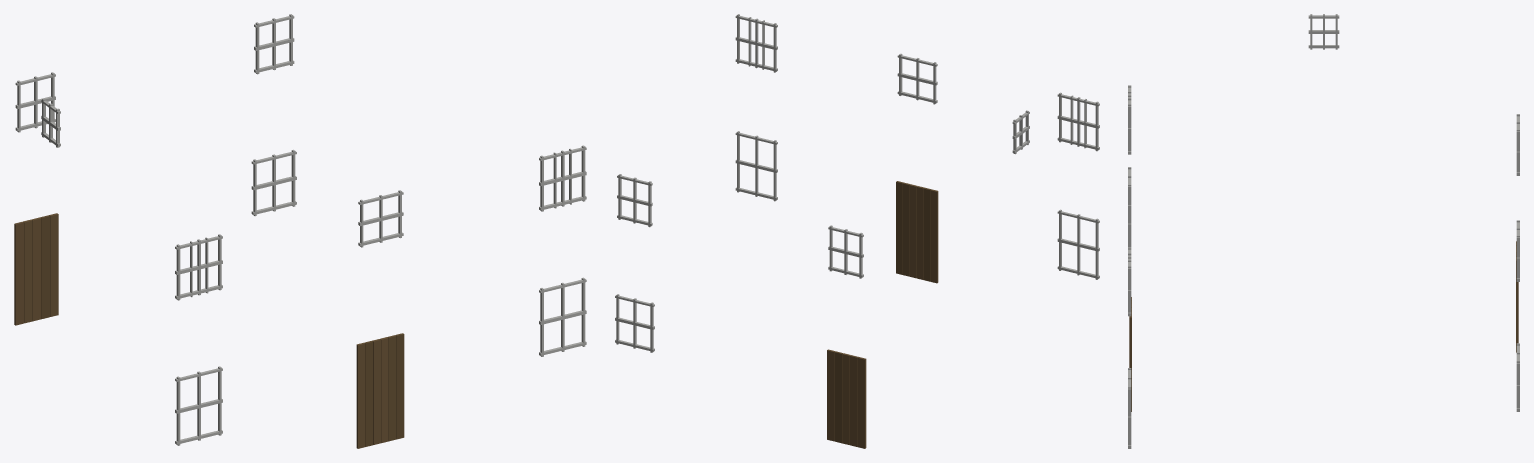
File: SM_Bld_071_Wood.glb
The picture shows the model from 3 angles, left to right: view 1: azimuth 30°, elevation 25°; view 2: azimuth 150°, elevation 25°; view 3: azimuth 270°, elevation 25°; orthographic projection. The views are drawn at different scales.
Visible parts, largest first — view 1: SM_Bld_071_Wood; view 2: SM_Bld_071_Wood; view 3: SM_Bld_071_Wood.
Boxes of the visible parts, <box> form: SM_Bld_071_Wood: <box>14,14,586,448</box>; SM_Bld_071_Wood: <box>615,14,1099,448</box>; SM_Bld_071_Wood: <box>1128,14,1519,448</box>.
Size of the model in its own units: 8.91 by 6.25 by 7.71.
